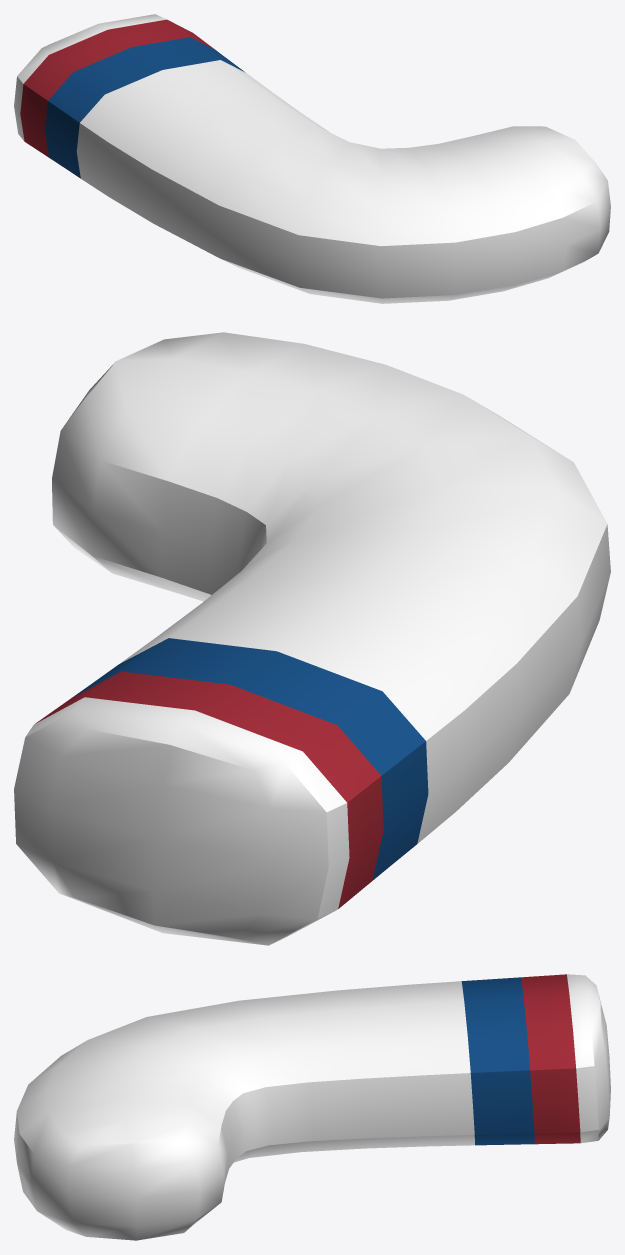
File: sock01.fbx
3 renders of one model, top to bottom at view 1: azimuth 30°, elevation 25°; view 2: azimuth 150°, elevation 25°; view 3: azimuth 270°, elevation 25°, orthographic. The views are drawn at different scales.
Parts seen in each view (by area): view 1: sock; view 2: sock; view 3: sock.
Part boxes in pixels (x1,y1,x2,y2): sock: [14, 14, 610, 303]; sock: [14, 332, 610, 945]; sock: [14, 974, 610, 1240].
Bounding box in the file's own units: 36.21 × 26.24 × 8.53.
